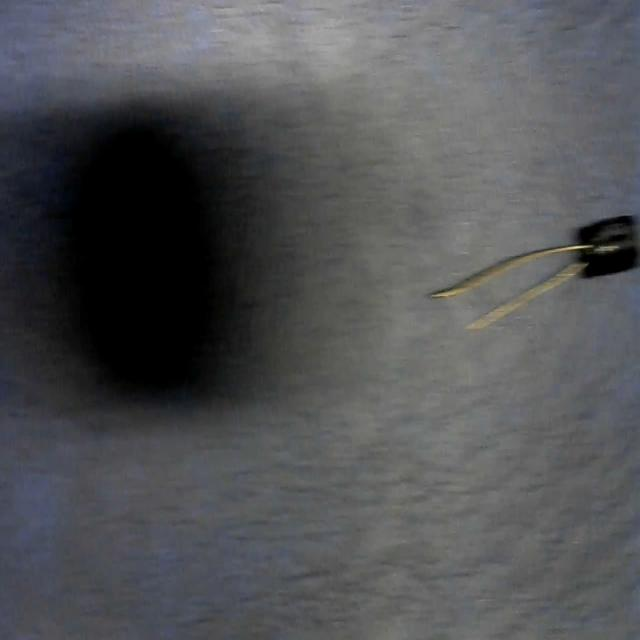capacitor: (432, 214, 640, 326)
